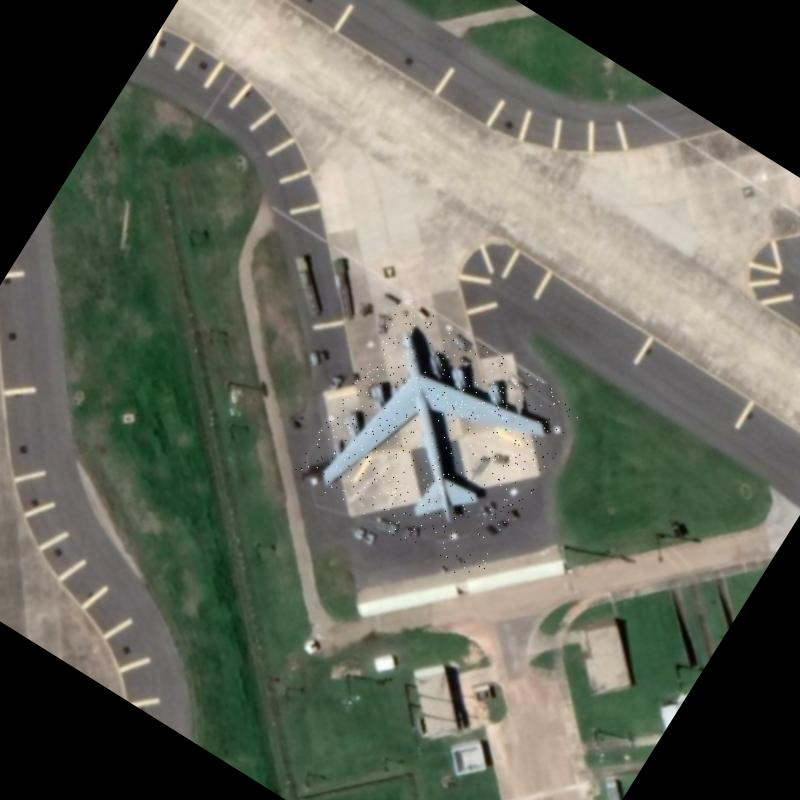A8: (293, 296, 585, 586)
